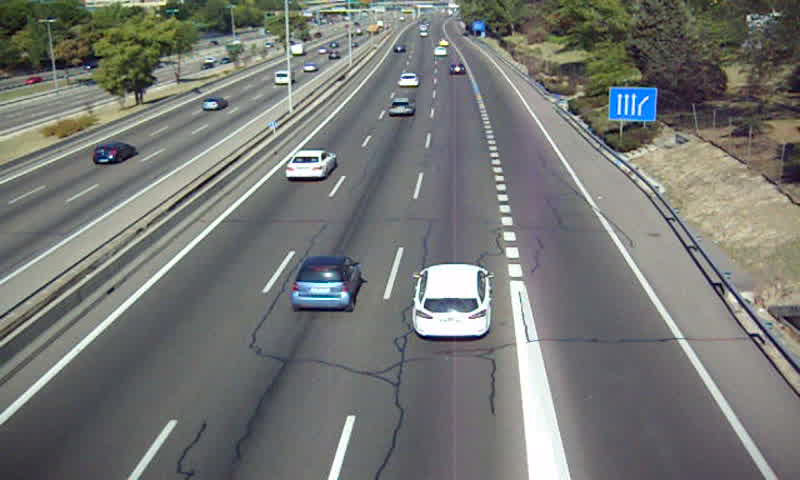car: (413, 264, 494, 338), (294, 256, 364, 311), (282, 150, 336, 181), (389, 95, 416, 114), (397, 72, 420, 89), (449, 62, 466, 74)
